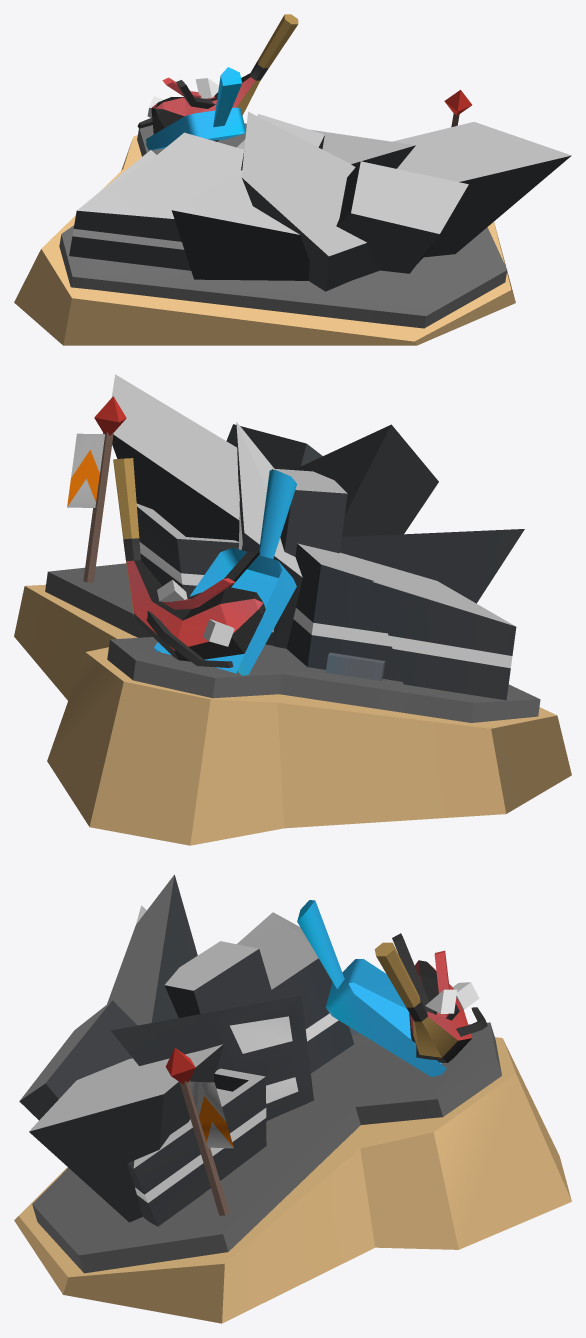
File: DENVER_lv01.fbx
The picture shows the model from 3 angles, top to bottom: view 1: azimuth 30°, elevation 25°; view 2: azimuth 150°, elevation 25°; view 3: azimuth 270°, elevation 25°; orthographic projection. The views are drawn at different scales.
Parts seen in each view (by area): view 1: DENVER_lv01; view 2: DENVER_lv01; view 3: DENVER_lv01.
Part boxes in pixels (left/top/right/bottom): DENVER_lv01: left=14, top=14, right=571, bottom=345; DENVER_lv01: left=14, top=374, right=571, bottom=845; DENVER_lv01: left=14, top=874, right=571, bottom=1323.
Size of the model in its own units: 9497 by 4642 by 8200.
